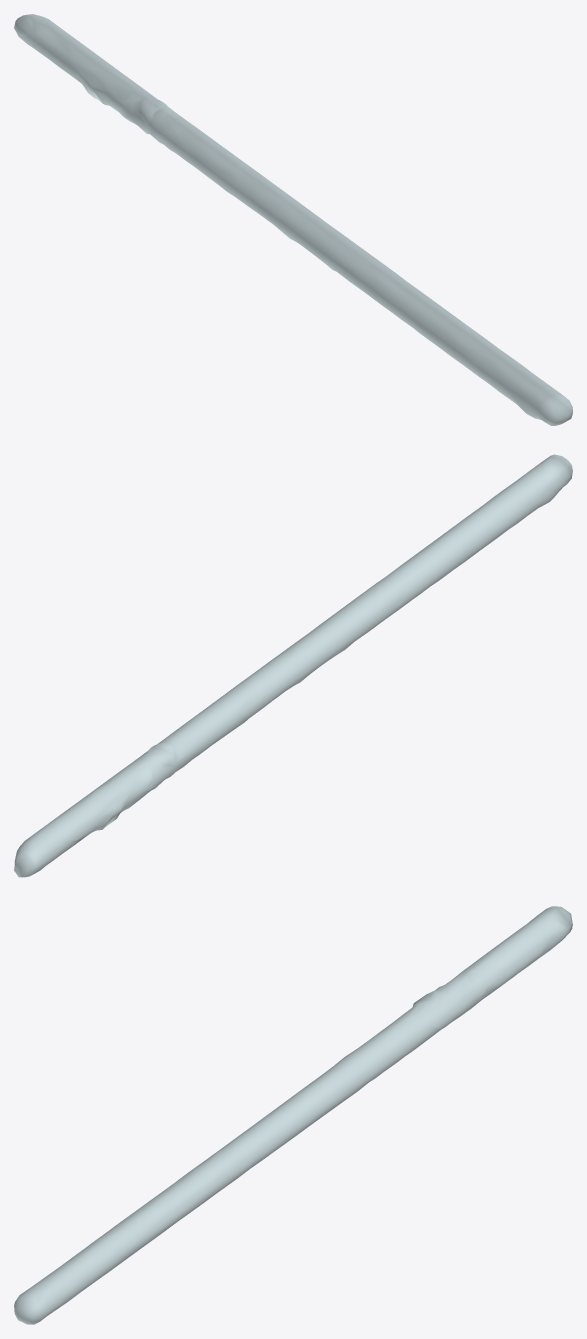
3 renders of one model, top to bottom at view 1: azimuth 30°, elevation 25°; view 2: azimuth 150°, elevation 25°; view 3: azimuth 330°, elevation 25°, orthographic.
Visible parts, largest first — view 1: scan.ply; view 2: scan.ply; view 3: scan.ply.
Part boxes in pixels (left/top/right/bottom): scan.ply: left=14, top=14, right=572, bottom=425; scan.ply: left=14, top=454, right=572, bottom=877; scan.ply: left=14, top=906, right=572, bottom=1324.
Bounding box in the file's own units: 0.00669 × 0.0078 × 0.1995.
